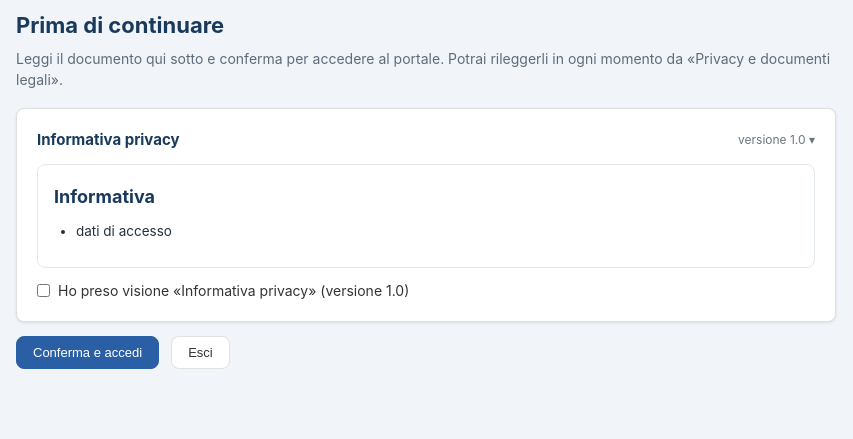
it: se la registrazione non riesce resta sulla pagina con un messaggio
This screenshot has width=853, height=439.
Click the checkbox labelled "Ho preso visione «Informativa privacy» (versione 1.0)".
click(44, 290)  # box 37,284 -> 50,297
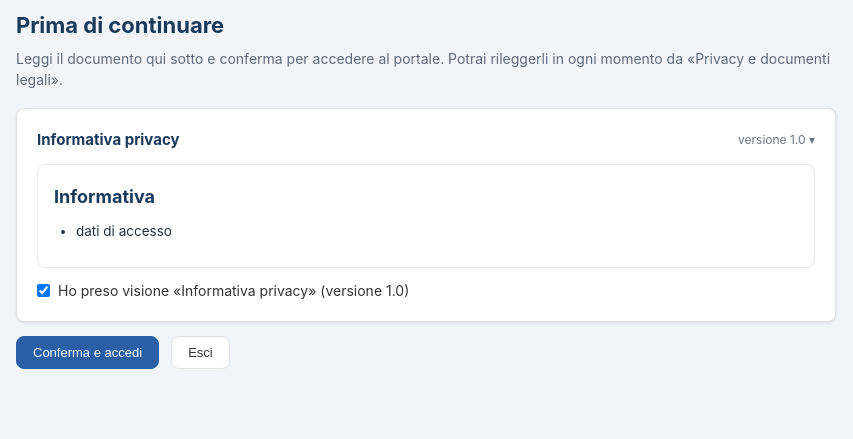
Click the button "Conferma e accedi".
click(88, 352)  # box 16,336 -> 159,369
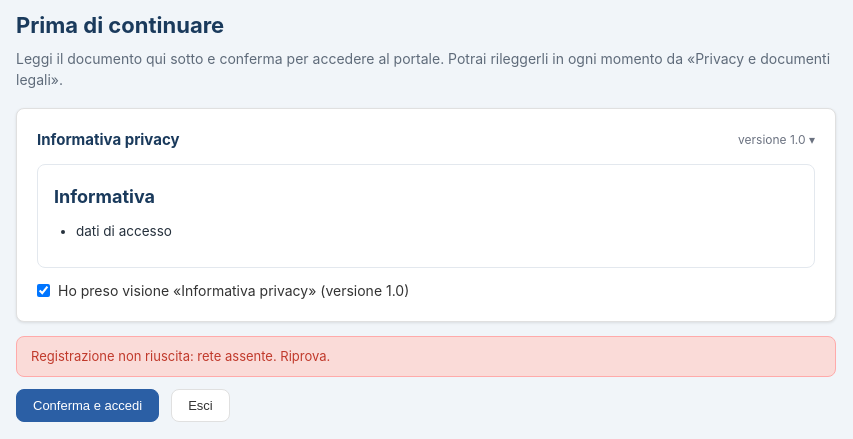
Expected: the text "Registrazione non riuscita: rete assente" is shown, 31,348 -> 330,364
